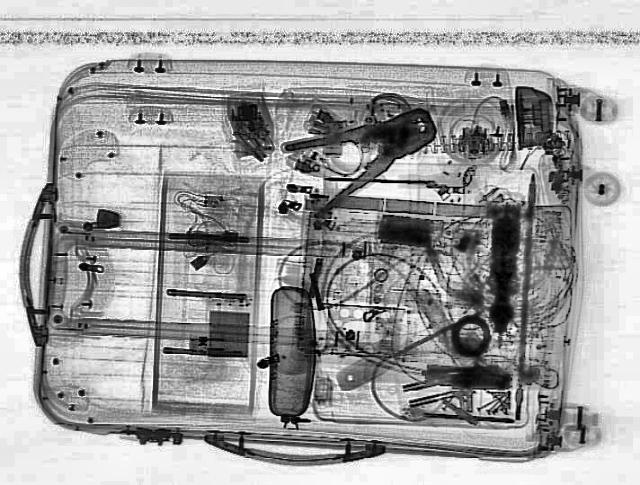Pliers: (272, 102, 463, 214)
